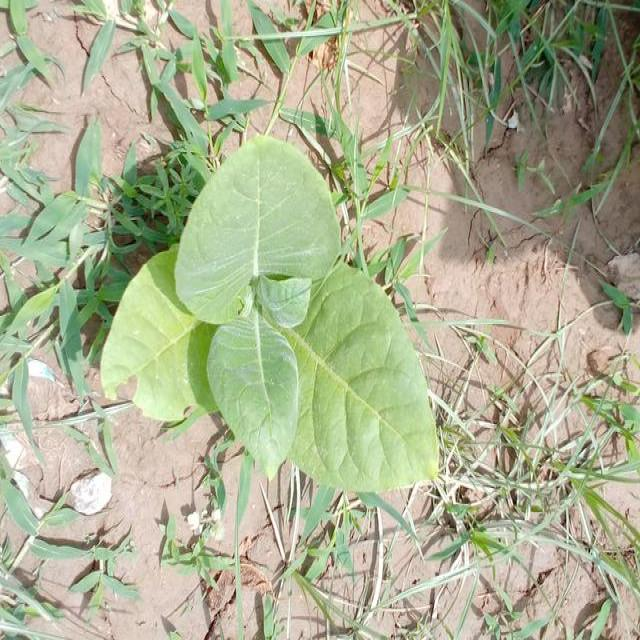crop: (106, 128, 443, 487)
